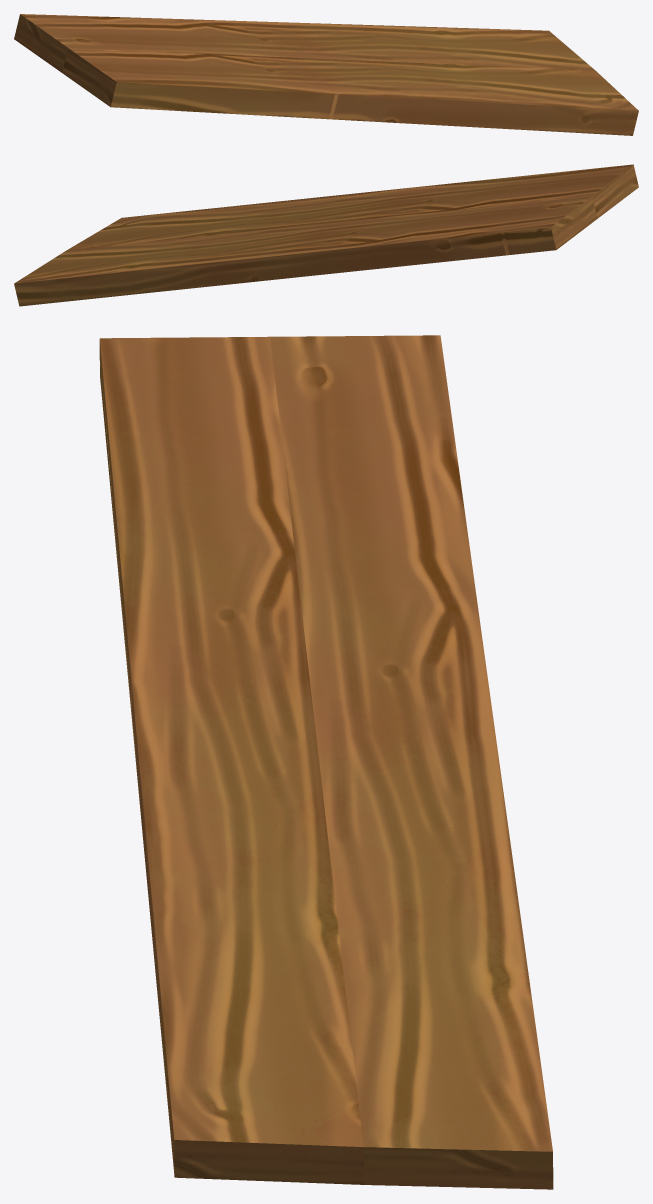
The picture shows the model from 3 angles, top to bottom: view 1: azimuth 30°, elevation 25°; view 2: azimuth 150°, elevation 25°; view 3: azimuth 270°, elevation 25°; orthographic projection. The views are drawn at different scales.
Visible parts, largest first — view 1: Cube.1156; view 2: Cube.1156; view 3: Cube.1156.
Part boxes in pixels (x1,y1,x2,y2): Cube.1156: (14,14,638,135); Cube.1156: (14,164,638,306); Cube.1156: (99,335,553,1189).
Size of the model in its own units: 240 by 81.19 by 91.78.
1 material, 1 textured.
